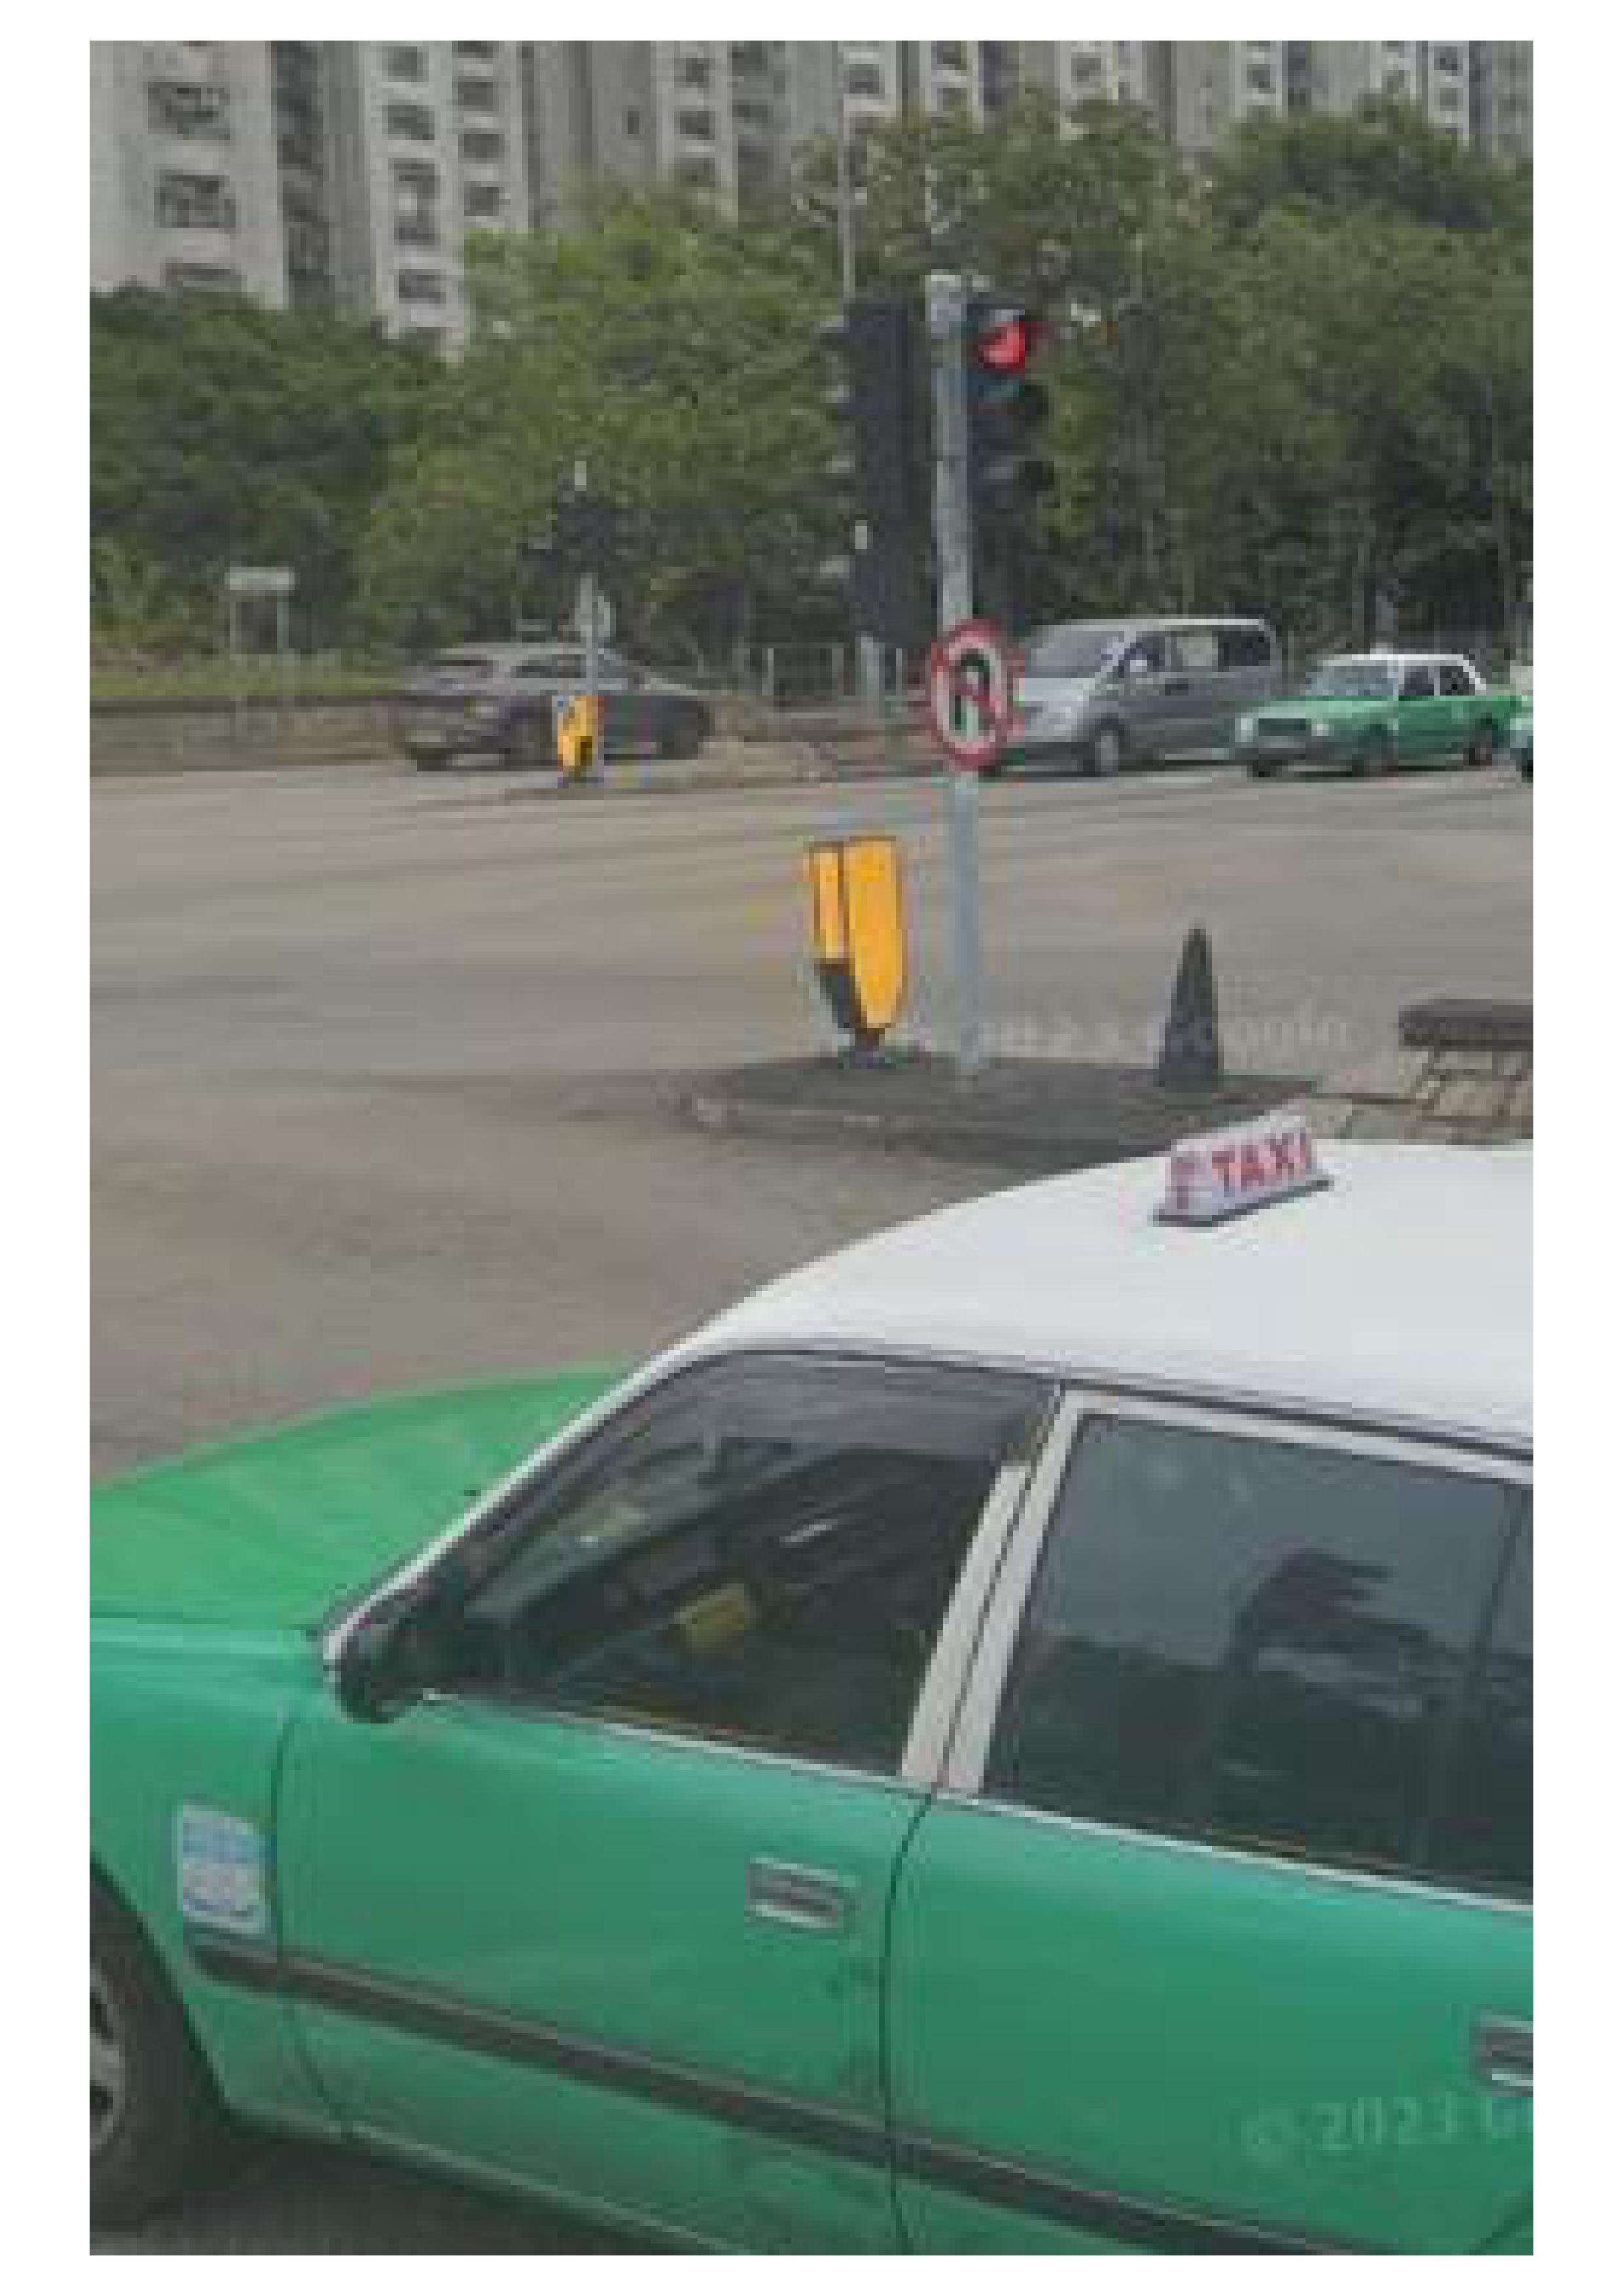No Uturn: (924, 613, 1028, 762)
